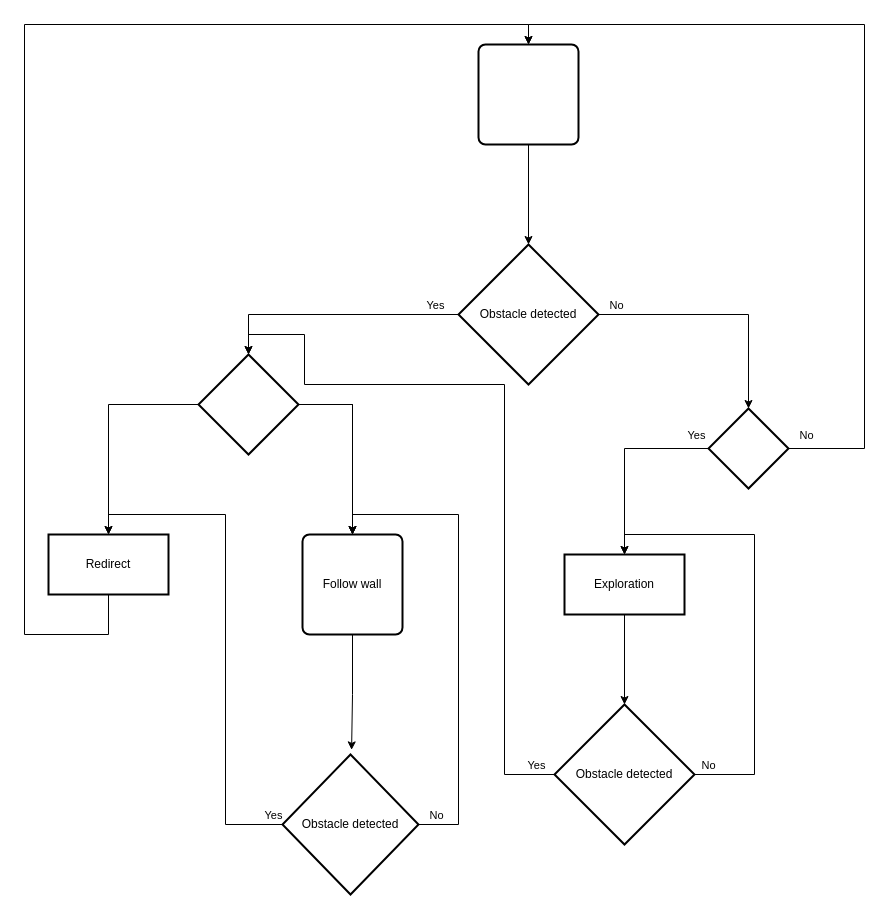
This 890x913 diagram has some shape labels left out. Each missing label, with the centre of its shape:
"Clearence" belongs at point 748,448.
"Move forward" belongs at point 528,94.
"Random" belongs at point 248,404.
